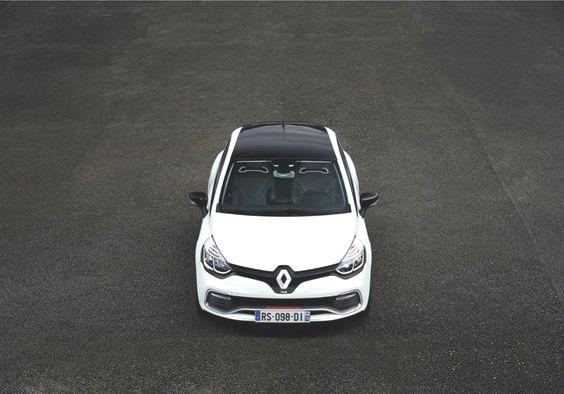Renault: (269, 263, 297, 296)
